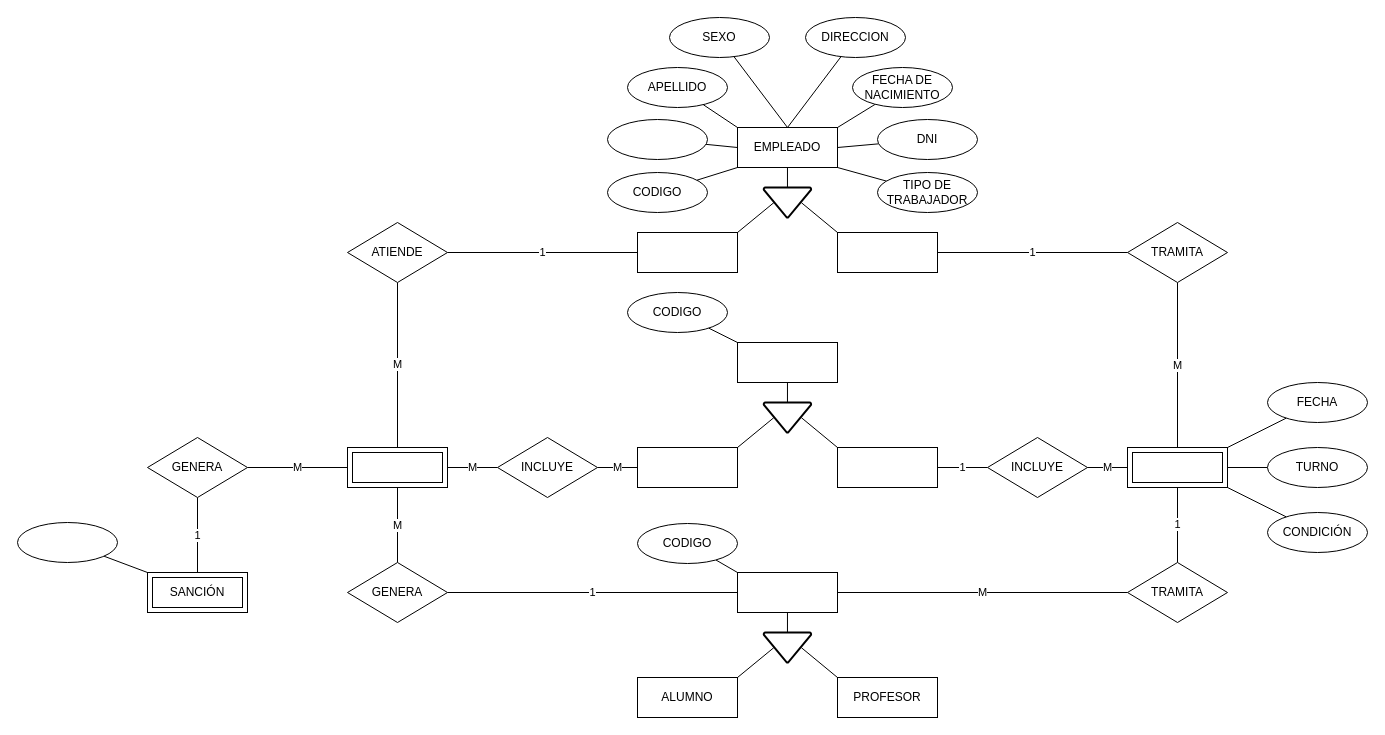
This 1385x735 diagram has some shape labels left out. Here are the shapes that lost their labels. From the top down, the box of each, then its label:
(606, 118, 708, 160): NOMBRE
(636, 232, 738, 272): CONTRATADO
(836, 232, 938, 272): PRACTICANTE
(736, 342, 838, 382): RECURSO
(346, 446, 448, 488): SOLICITUD DE PRESTAMO
(636, 446, 738, 488): LIBRO
(836, 446, 938, 488): CUBÍCULO
(1126, 446, 1228, 488): PEDIDO DE CUBÍCULO
(16, 522, 118, 562): TIPO SANCIÓN
(736, 572, 838, 612): USUARIO
